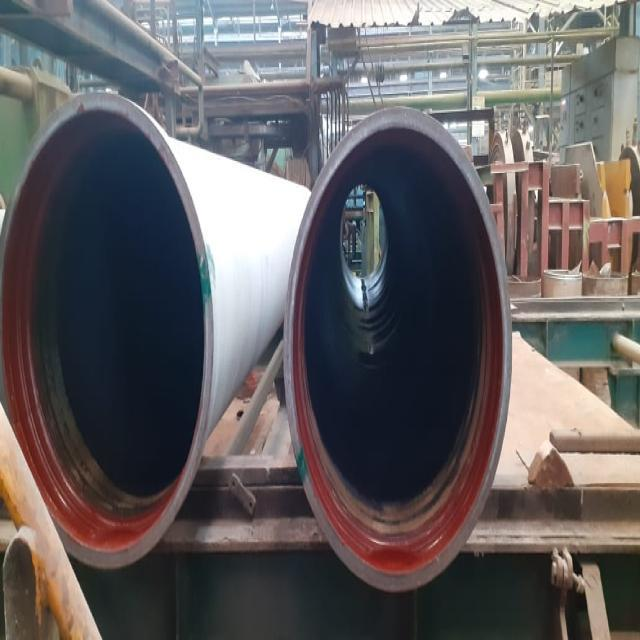pipe: (283, 105, 522, 596), (2, 92, 213, 576)
